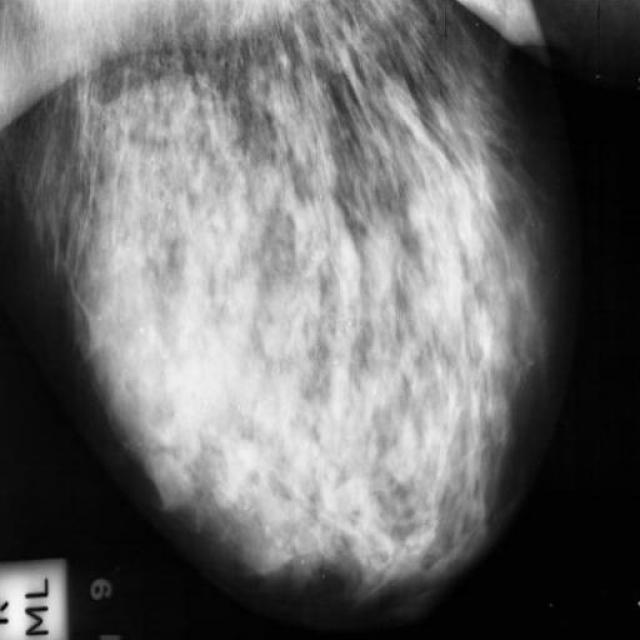cancer: (56, 93, 492, 558)
